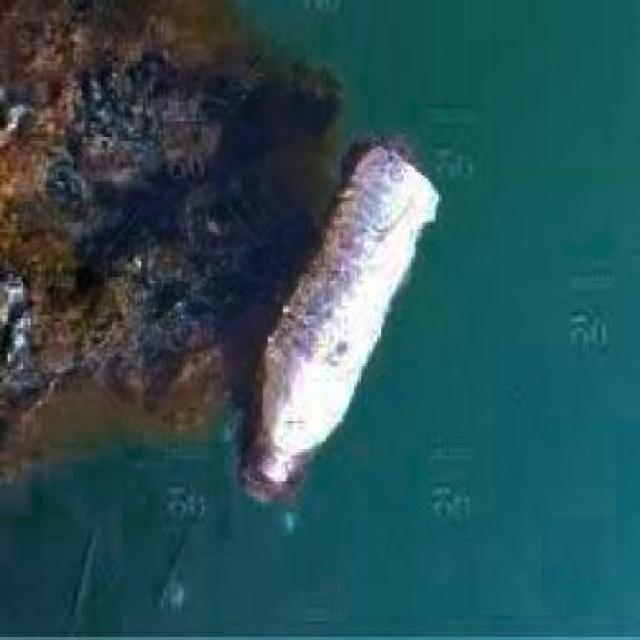pbottle: (224, 140, 453, 506)
